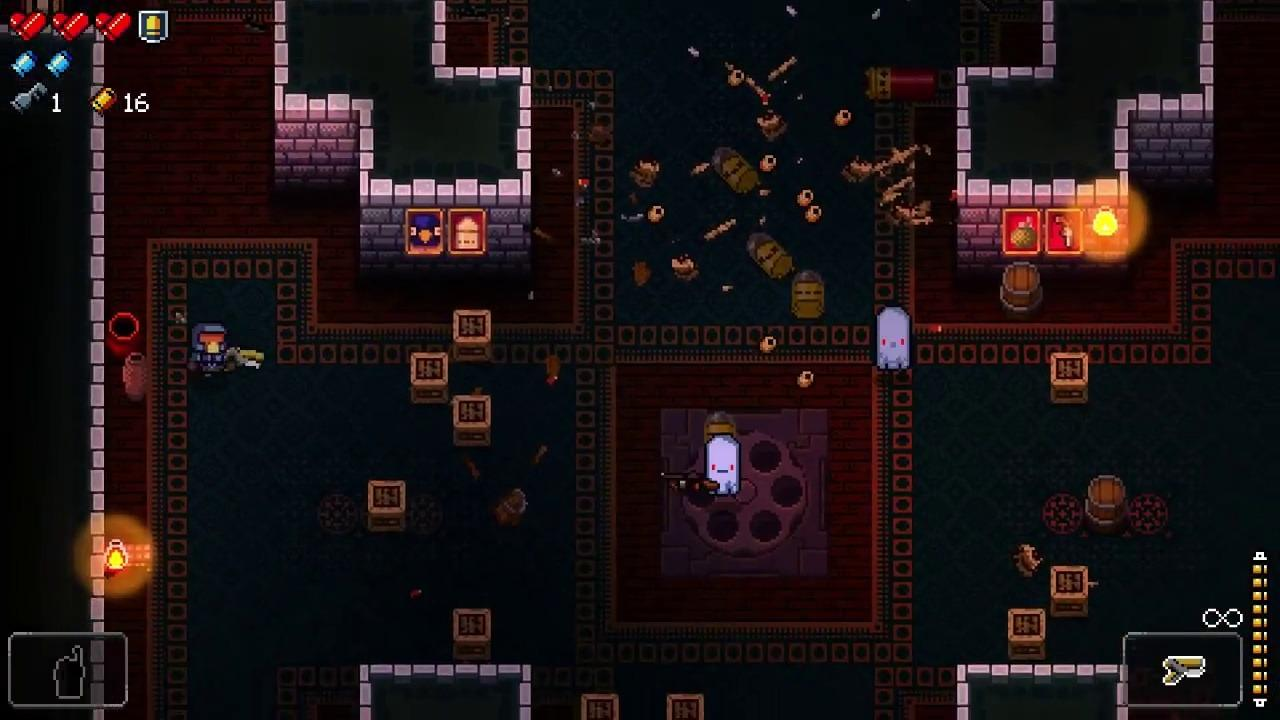dead_bullet_kin: (790, 268, 829, 326), (746, 230, 792, 279), (715, 147, 760, 195)
dead_red_shotgun_kin: (863, 67, 934, 102)
hollowpoint: (874, 306, 912, 373), (705, 434, 739, 497)
player: (190, 323, 228, 374)
teleporter: (662, 408, 828, 579)
